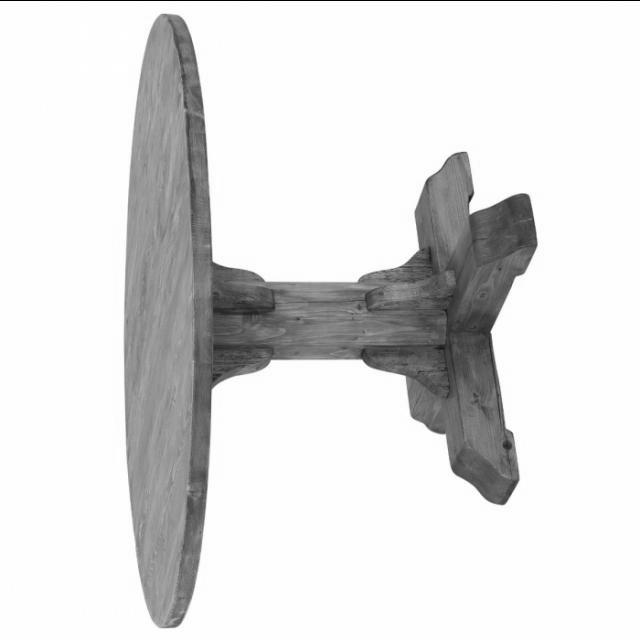table: (119, 12, 538, 628)
